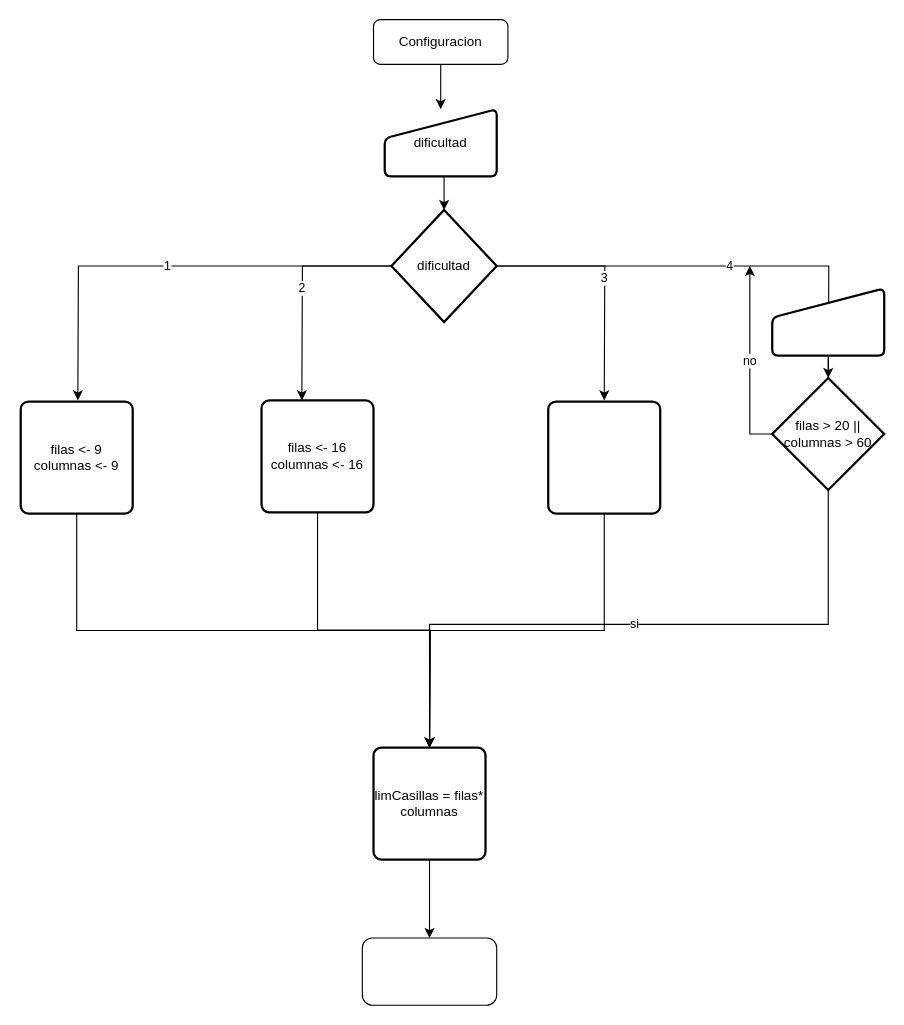
The diagram is 904 pixels wide and 1025 high, and some of its shapes have lost their labels. The shapes that lost their labels are listed below. From the top down, each one's centre as x and y in pixels, then its label:
At (828,321): "filas, columnas".
At (604,457): "filas <- 16 columnas <- 30".
At (429,971): "fin".
